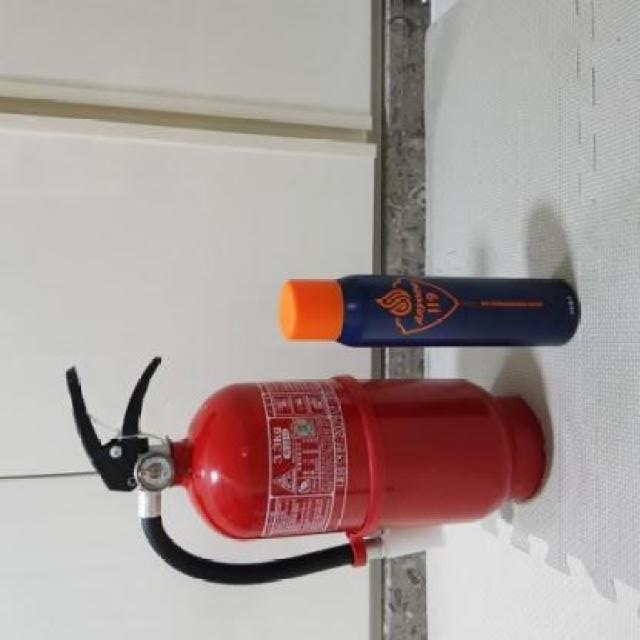fire extinguisher: (66, 358, 545, 585)
